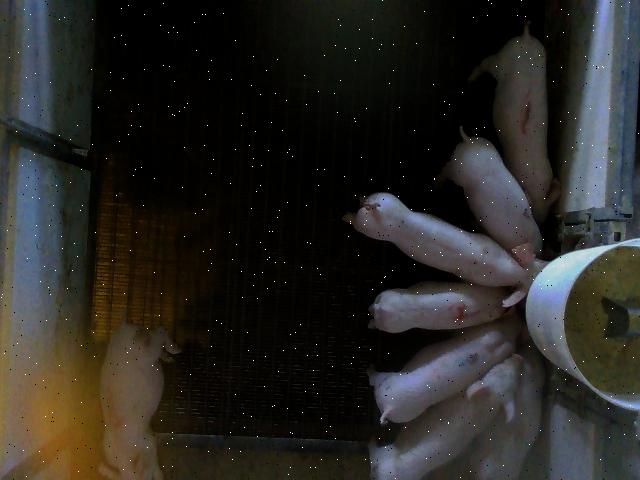pig-1: (469, 21, 561, 224)
pig-3: (99, 321, 180, 478)
pig-4: (369, 281, 511, 332)
